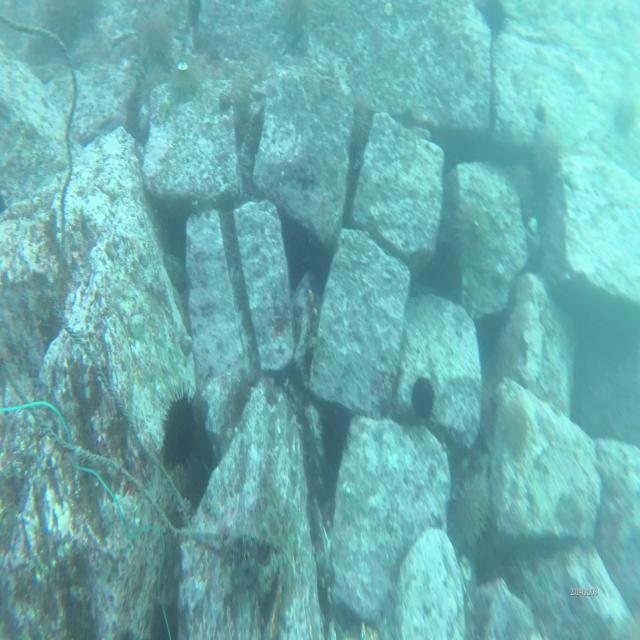echinus: (158, 387, 202, 484), (447, 464, 490, 558), (134, 6, 174, 66), (409, 370, 438, 436), (171, 59, 201, 100)
